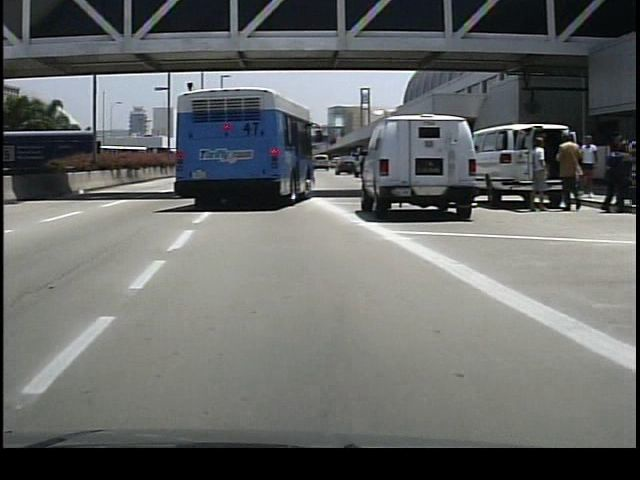person: (548, 130, 580, 215), (522, 133, 546, 215)
